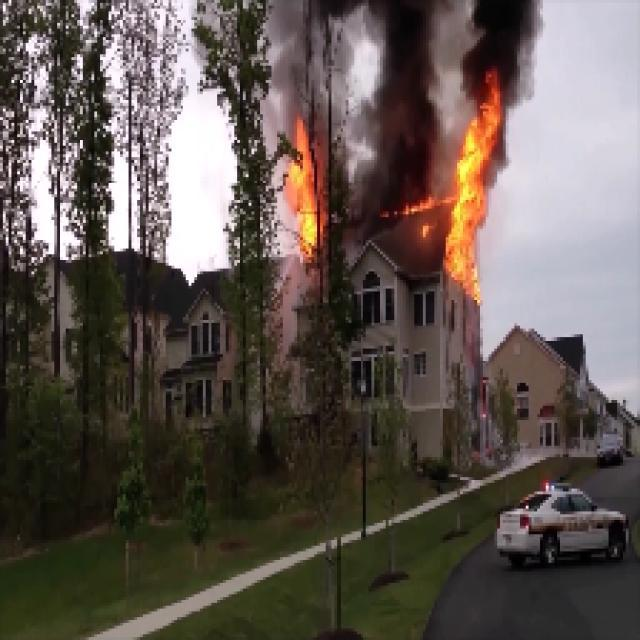Fire: (422, 73, 497, 308)
Smoke: (324, 2, 418, 210), (471, 1, 532, 70)
